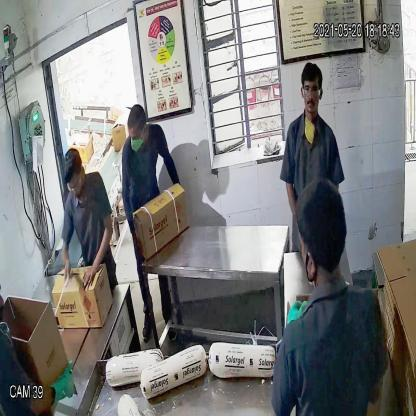goggles: (298, 82, 324, 99)
